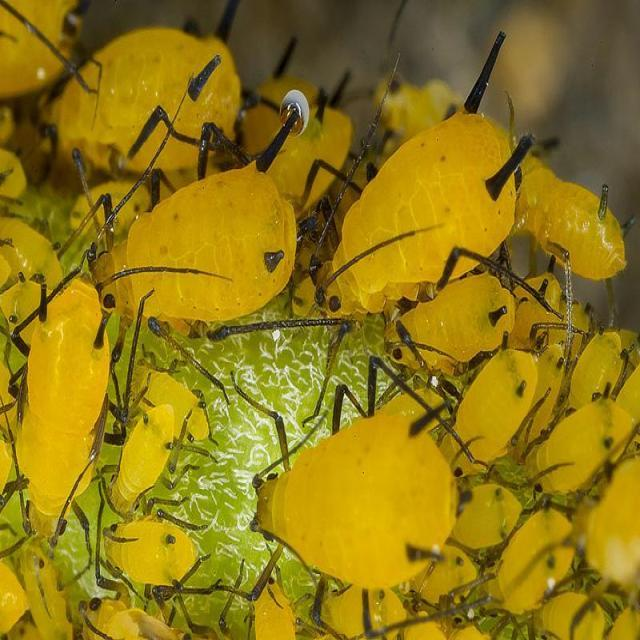aphid: (298, 73, 550, 371), (245, 387, 496, 628), (4, 252, 157, 624), (73, 154, 324, 370), (368, 260, 530, 390), (94, 485, 218, 595), (97, 390, 184, 530)
